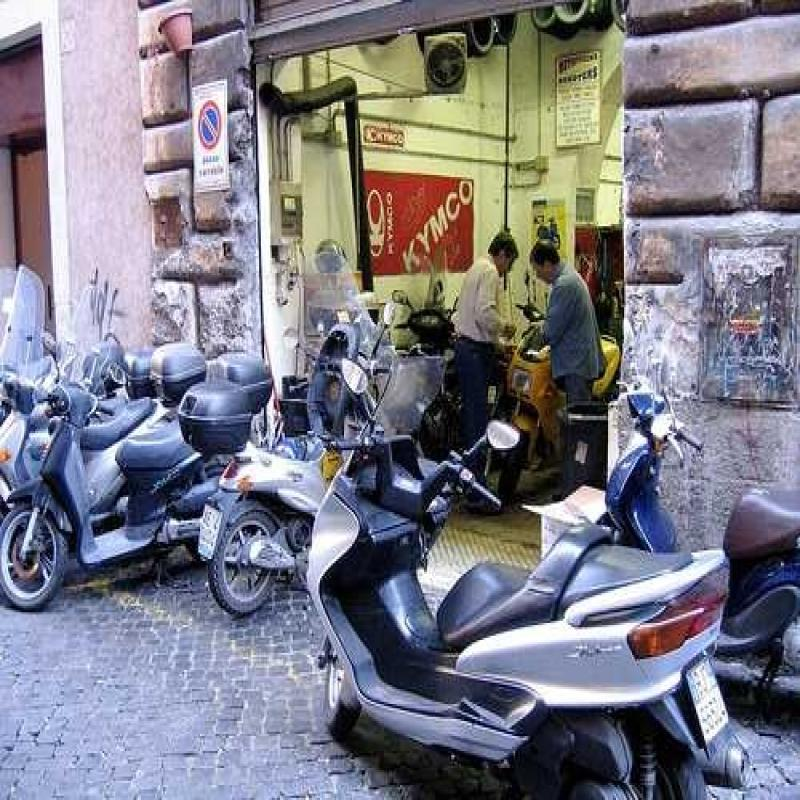bike: (330, 395, 758, 800), (0, 340, 261, 608), (605, 355, 800, 633)
